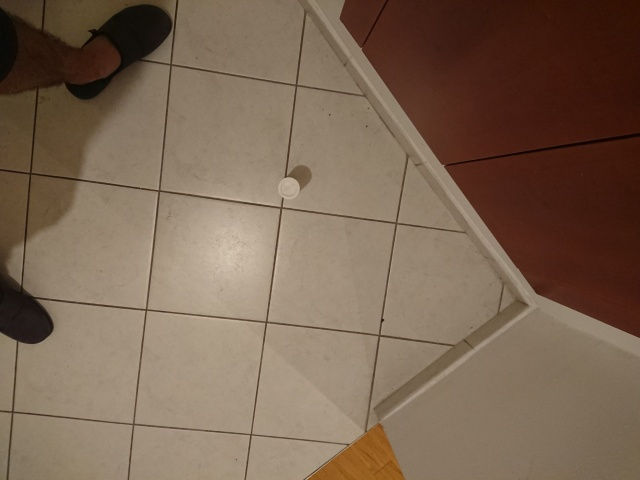Solana Pag Fine Sea Salt 250g: (276, 175, 302, 202)
